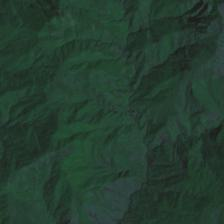landslides: (213, 63, 221, 80), (185, 92, 195, 105)
